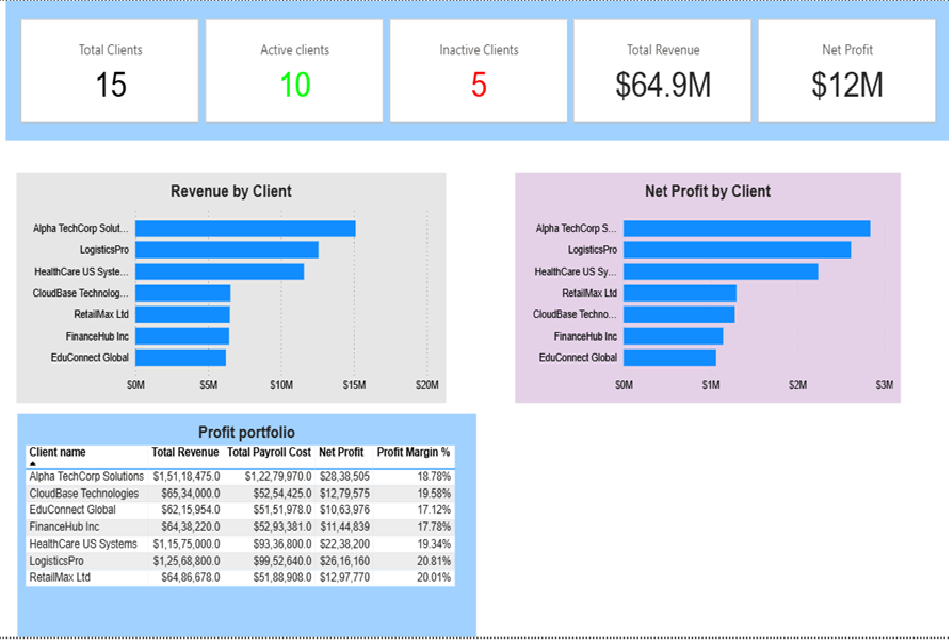

Layout of this report page (visuals, bound fields, positions):
{"tool":"powerbi","page":{"name":"Revenue & profit portfolio","canvas":[1280,720],"ordinal":3},"visuals":[{"type":"cardVisual","fields":{"Data":["Measure.Total Clients","Measure.Active clients","Measure.Inactive Clients","Measure.Total Revenue","Measure.Net Profit"]},"box":[10.1,0,1269.6,158.7],"z":0},{"type":"clusteredBarChart","title":"Revenue by Client","fields":{"Category":["Clients.Client name"],"Y":["Measure.Total Revenue"]},"box":[24.5,194.8,575.7,261.1],"z":1000},{"type":"clusteredBarChart","title":"Net Profit by Client ","fields":{"Category":["Clients.Client name"],"Y":["Measure.Net Profit"]},"box":[692.5,194.8,516.5,261.1],"z":2000},{"type":"tableEx","title":"Profit portfolio","fields":{"Values":["Clients.Client name","Measure.Total Revenue","Measure.Total Payroll Cost","Measure.Net Profit","Measure.Profit Margin %"]},"box":[25,466.7,615,253.3],"z":3000}]}

Visuals, with their boxes on the page's 1280x720 design canvas (x1, y1, x2, y2). These are canvas units, not pixel positions in the 949x642 screenshot, which may show the page scaled, cropped or inside an application window:
cardVisual - Measure.Total Clients x Measure.Active clients: bbox=(10, 0, 1280, 159)
"Revenue by Client" clusteredBarChart: bbox=(24, 195, 600, 456)
"Net Profit by Client " clusteredBarChart: bbox=(692, 195, 1209, 456)
"Profit portfolio" tableEx: bbox=(25, 467, 640, 720)
